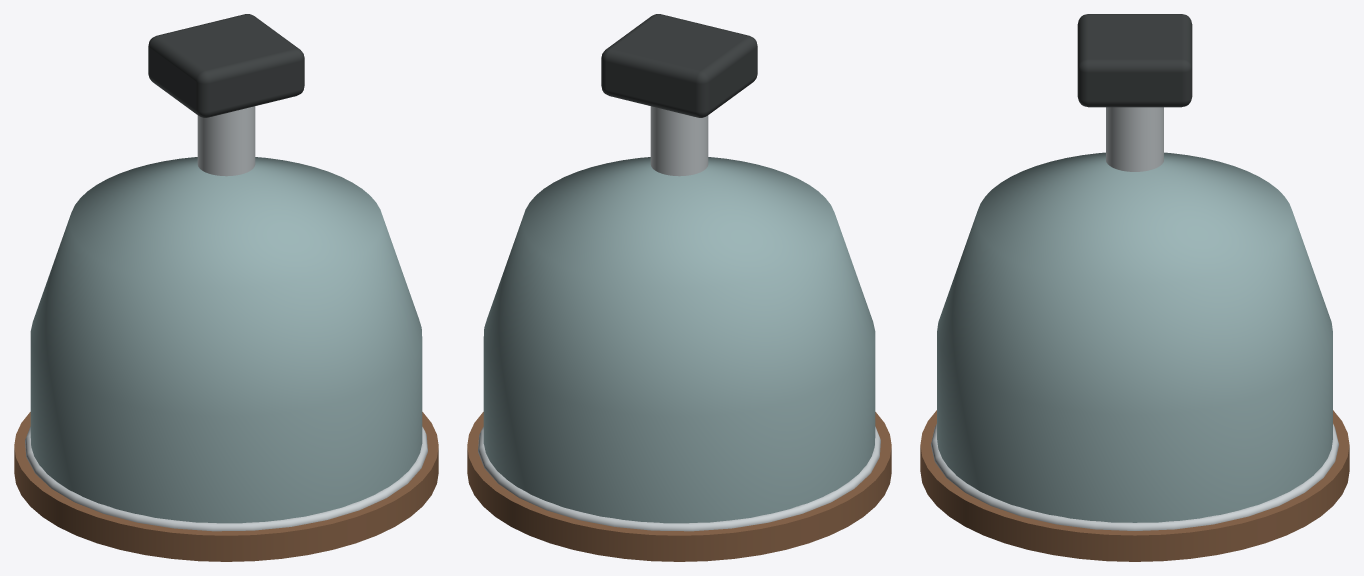
Rendered from clockmaker-and-watch-repair-drying-bell-285a4e4f__30615.glb.
3 renders of one model, left to right at view 1: azimuth 30°, elevation 25°; view 2: azimuth 150°, elevation 25°; view 3: azimuth 270°, elevation 25°, orthographic.
Parts seen in each view (by area): view 1: drying-bell; view 2: drying-bell; view 3: drying-bell.
Boxes of the visible parts, bbox=[...] form: drying-bell: bbox=[14, 14, 438, 561]; drying-bell: bbox=[467, 14, 891, 561]; drying-bell: bbox=[920, 14, 1349, 561].
Size of the model in its own units: 0.206 by 0.23 by 0.206.
